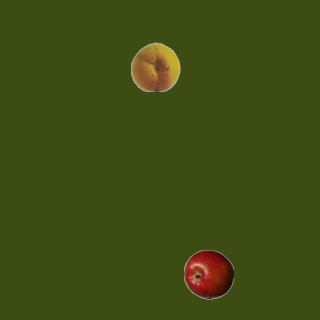Apple Braeburn: (183, 249, 233, 299)
Peach 2: (130, 41, 180, 91)
